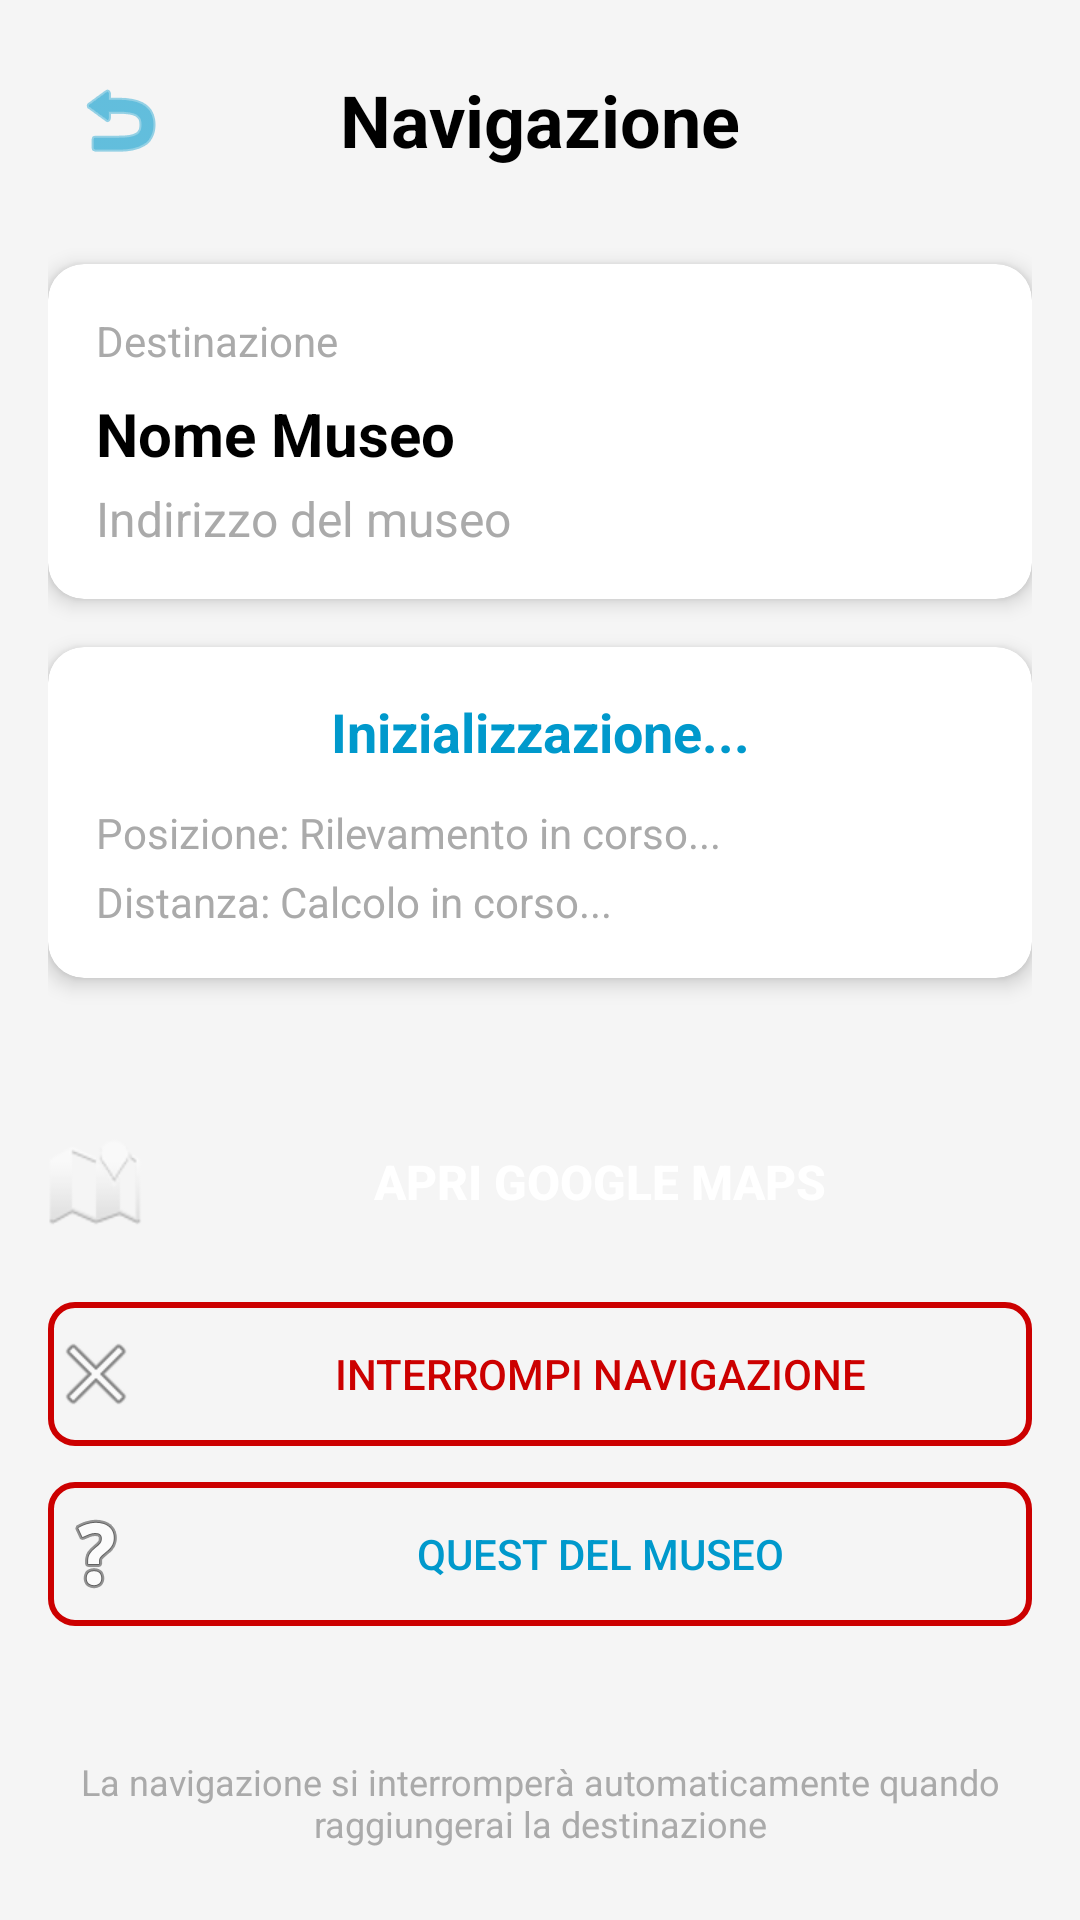

Named icons in this screenshot (1080*1920) and their centers, (x,y):
Torna indietro: (121,120)
